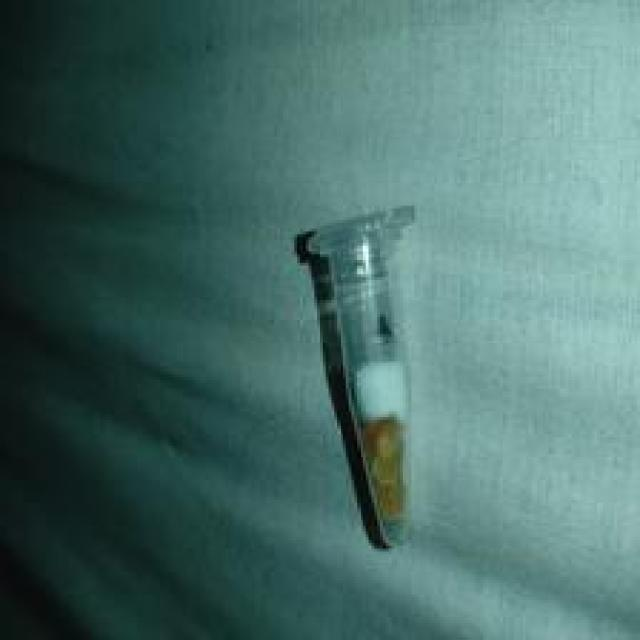Aedes albopictus: (293, 204, 418, 550)
